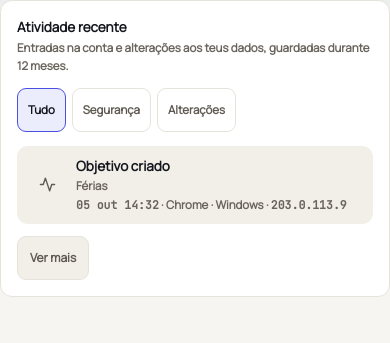
Test: ActivityCard › "Ver mais" segue o cursor e acrescenta à lista
What coordinates should you click on to do the following:
click the button "Ver mais"
I would click on:
 (53, 258)
Its box is [17,236,89,280].
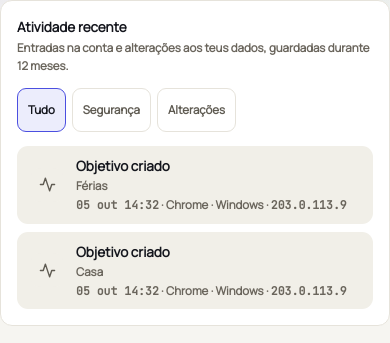
Check: the text "Férias" is shown, box [76,178,108,193]
Check: the text "Casa" is shown, box [76,264,103,279]
Check: the button "Ver mais" is gone
